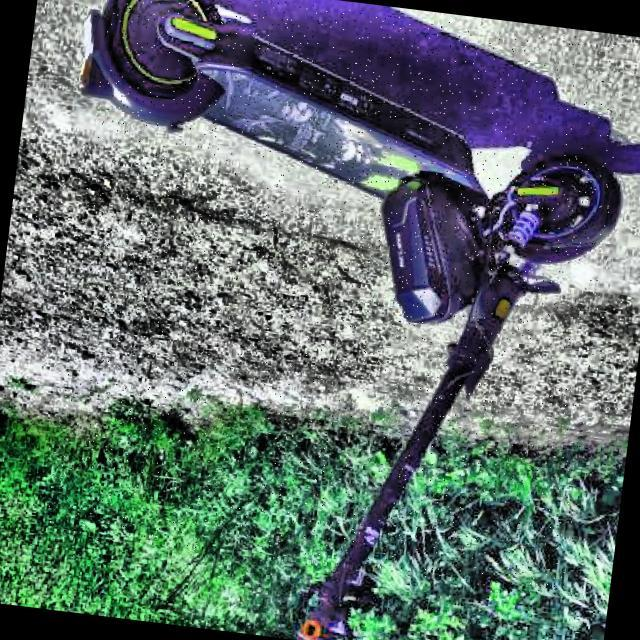bike: (50, 0, 640, 639)
